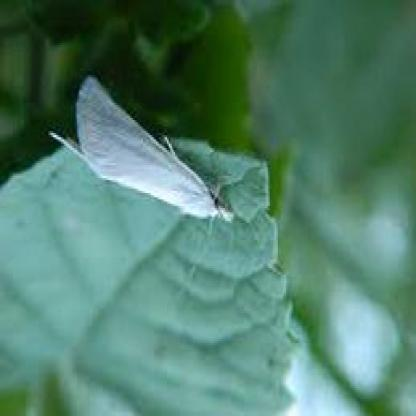stem-borer: (47, 71, 236, 227)
